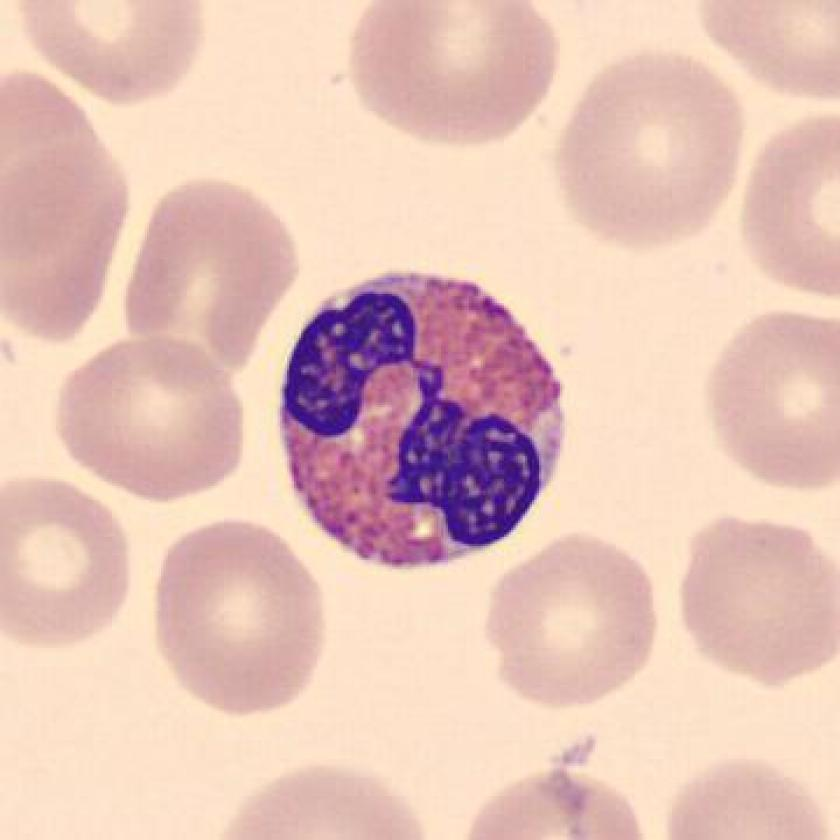eosinophil: (265, 263, 584, 584)
